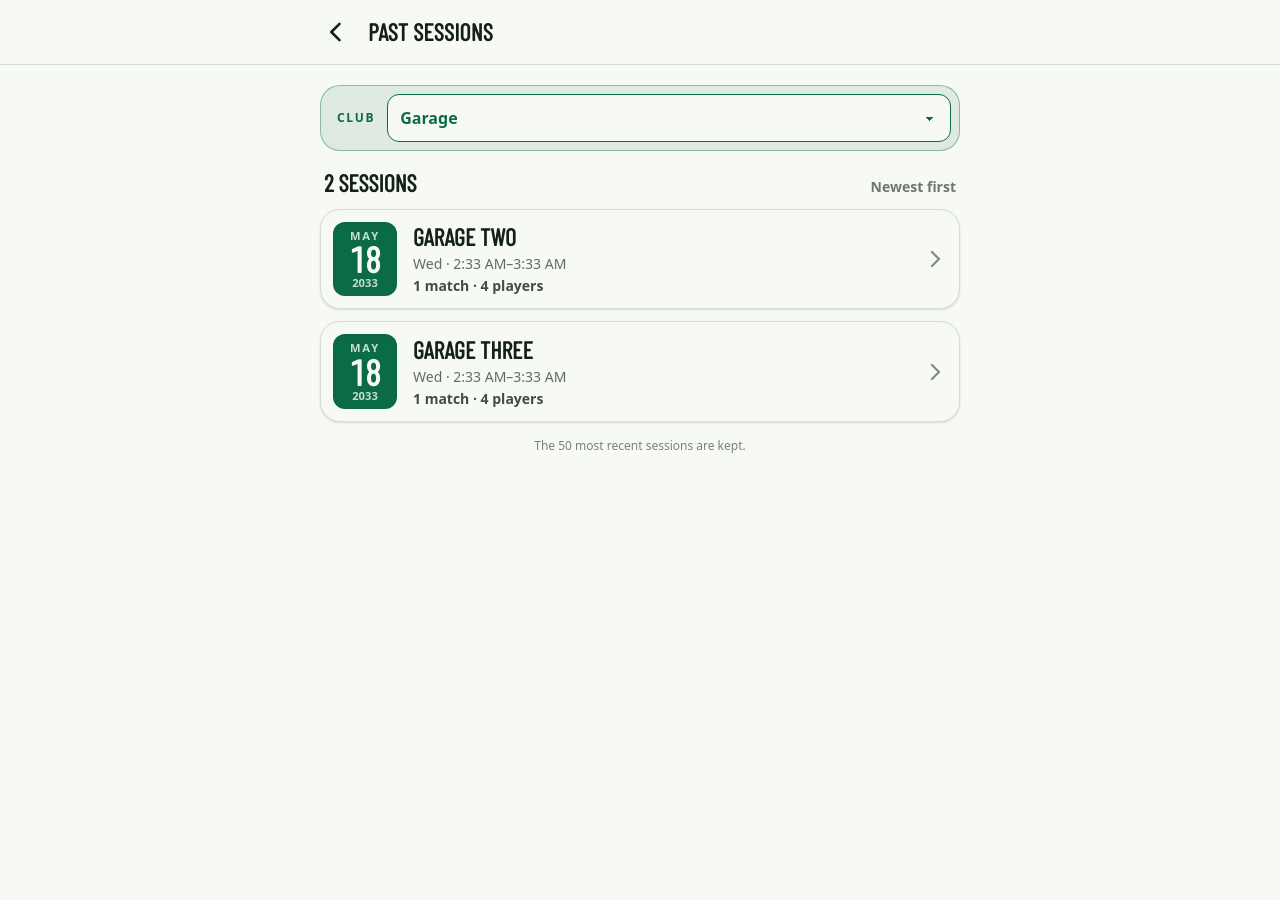
Scenario: Delete session: no Club or a Local club › goes back to the filtered list it was opened from
Click the link "Garage two". click: coordinates (365, 259)
box: top-left (320, 209), bottom-right (960, 309)
(page scrolled)
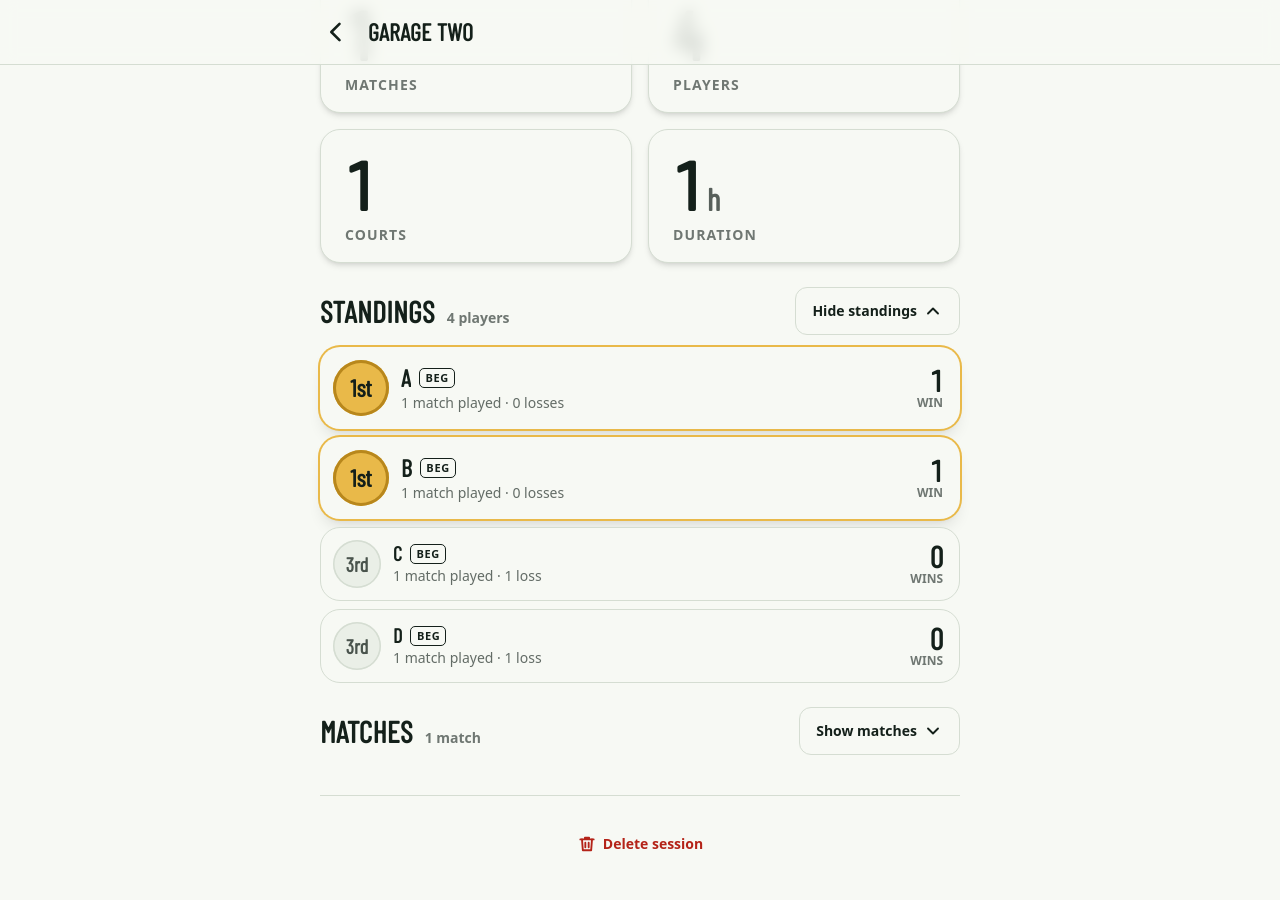
Click the button "Delete session". click: coordinates (640, 844)
box: top-left (320, 820), bottom-right (960, 868)
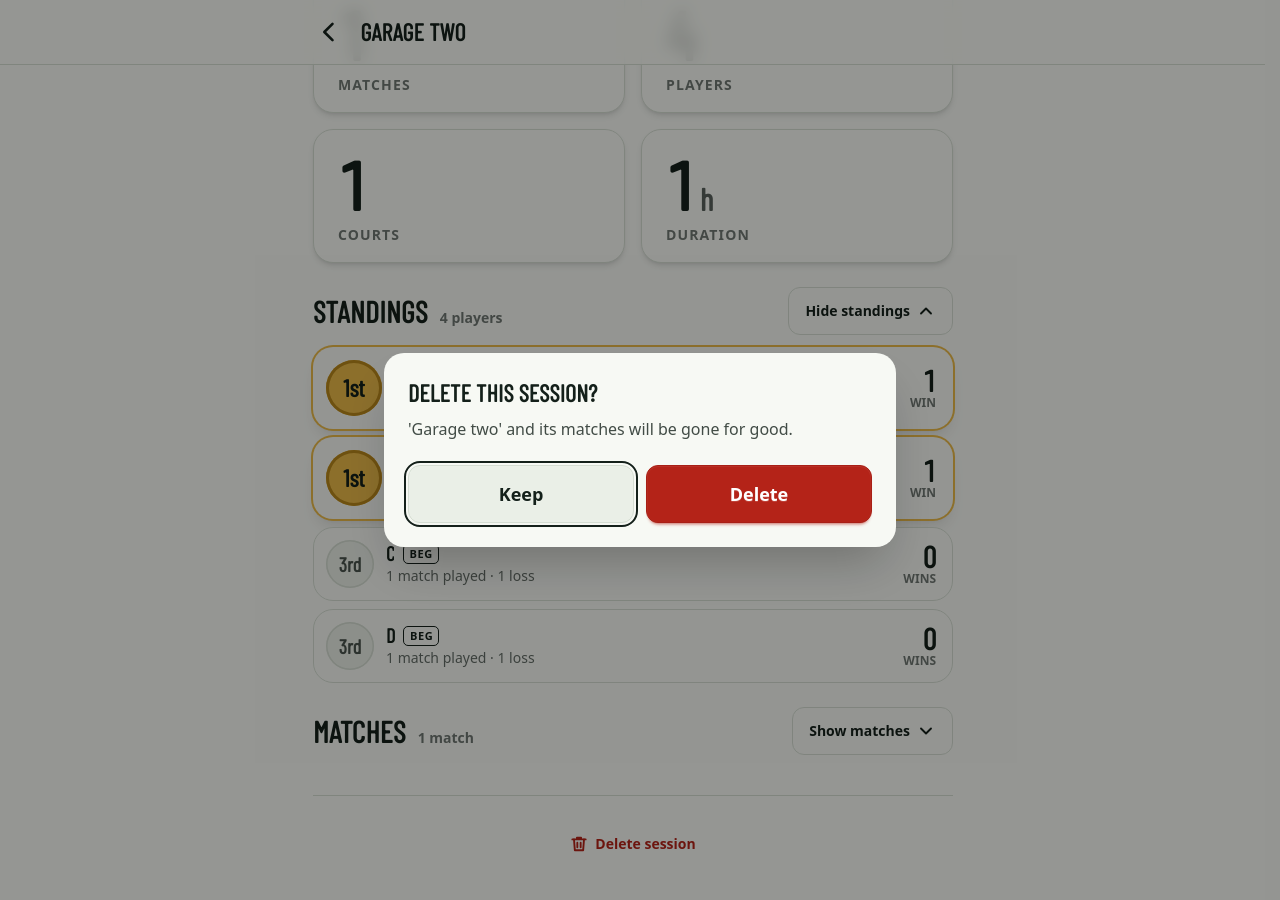
Click the button "Delete". click: coordinates (759, 494)
box: top-left (646, 465), bottom-right (872, 523)
(page scrolled)
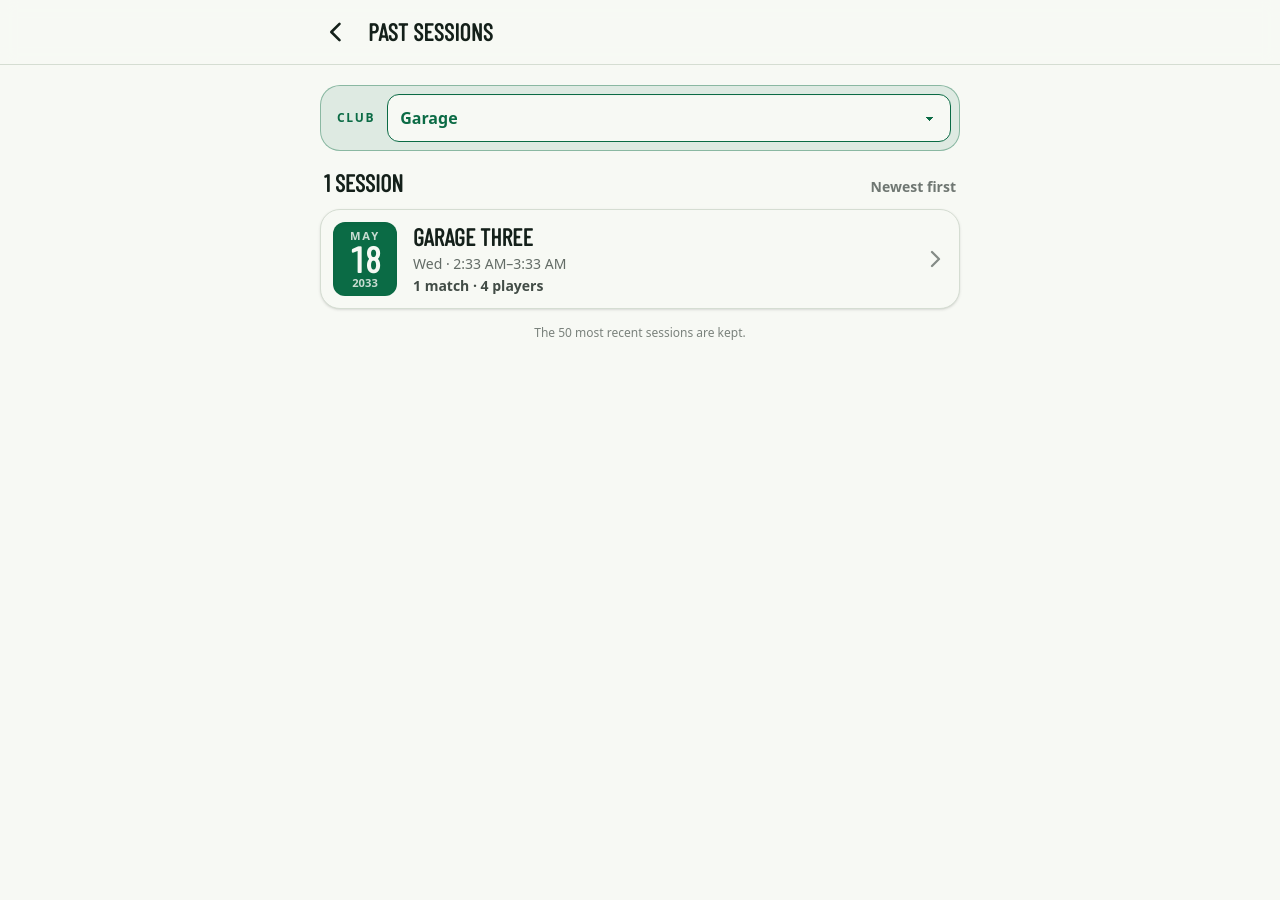
Now the dropdown labelled "Club" shows "Garage", box top-left (387, 94), bottom-right (951, 142)
Now the heading "Garage two" is gone
Now the link "Garage three" is shown, box top-left (320, 209), bottom-right (960, 309)
